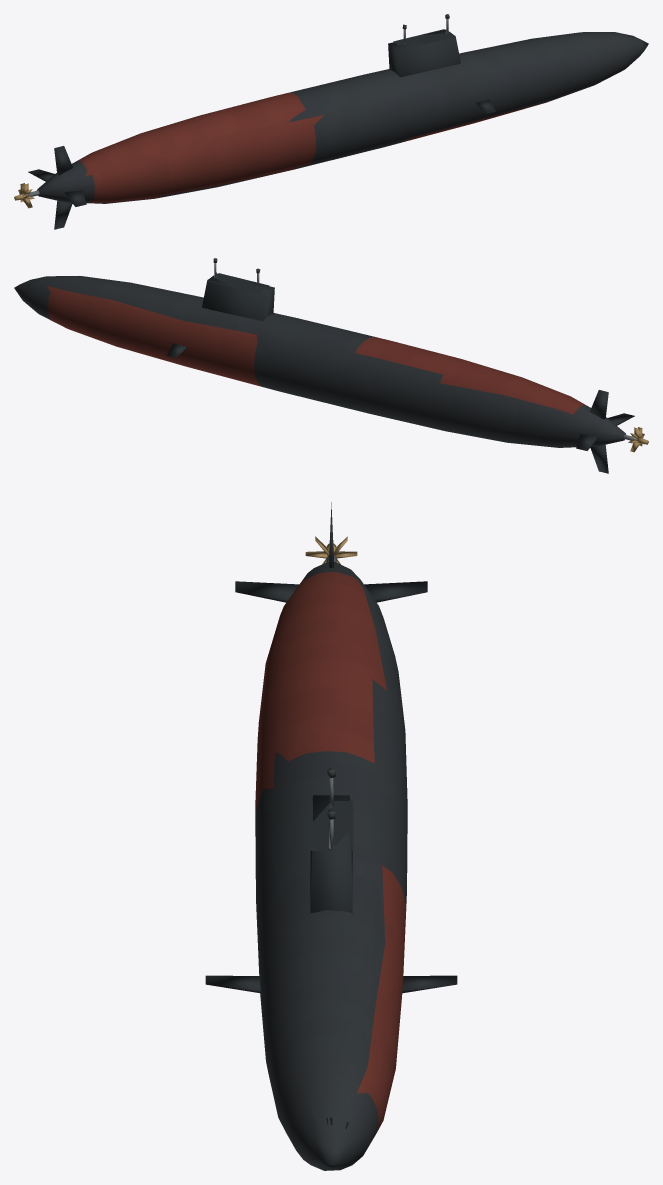
The model's file is CN_SSN_Type091_LOD3.fbx.
The picture shows the model from 3 angles, top to bottom: view 1: azimuth 30°, elevation 25°; view 2: azimuth 150°, elevation 25°; view 3: azimuth 270°, elevation 25°; orthographic projection. The views are drawn at different scales.
Visible parts, largest first — view 1: CN_SSN_Type091_LOD3; view 2: CN_SSN_Type091_LOD3; view 3: CN_SSN_Type091_LOD3.
Boxes of the visible parts, x1,y1,x2,y2 form: CN_SSN_Type091_LOD3: (14, 14, 648, 229); CN_SSN_Type091_LOD3: (14, 258, 648, 473); CN_SSN_Type091_LOD3: (205, 502, 457, 1170).
Bounding box in the file's own units: 102 × 17.48 × 18.23.
6 materials, 1 textured.
